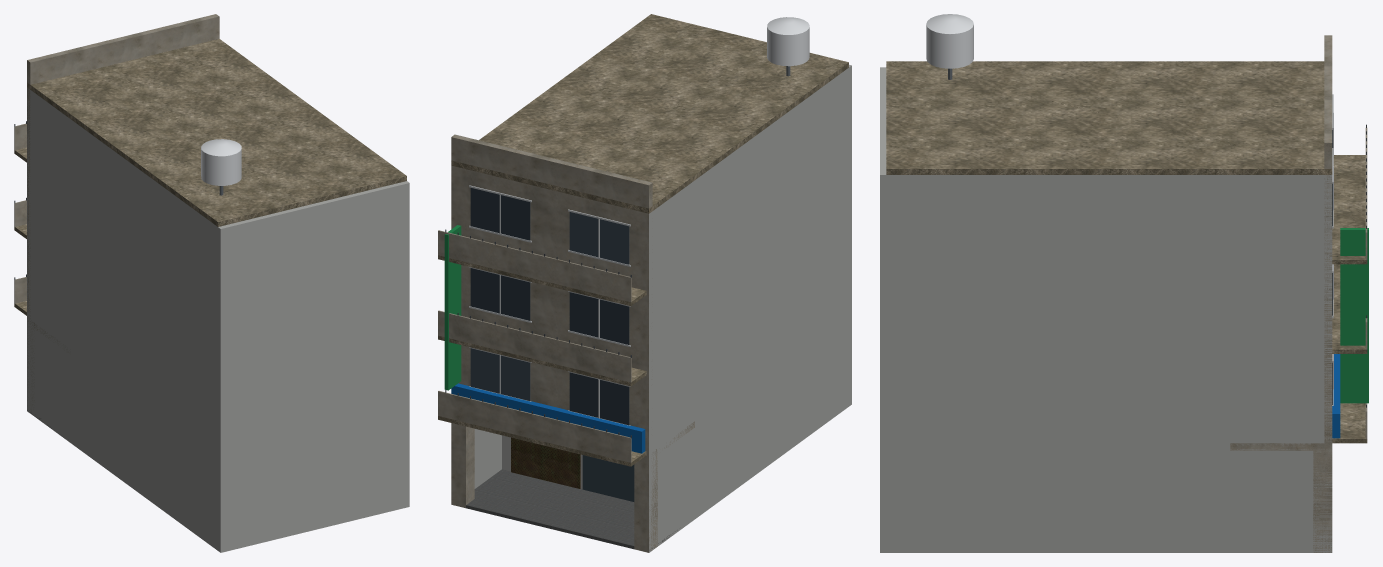
The model's file is street-house-b.glb.
3 views of the same model, side by side, from view 1: azimuth 30°, elevation 25°; view 2: azimuth 150°, elevation 25°; view 3: azimuth 270°, elevation 25° (orthographic). The views are drawn at different scales.
Visible parts, largest first — view 1: StreetHouseB; view 2: StreetHouseB; view 3: StreetHouseB.
Part boxes in pixels (x1,y1,x2,y2): StreetHouseB: (14,14,409,552); StreetHouseB: (438,14,851,552); StreetHouseB: (880,14,1368,552).
Size of the model in its own units: 8 by 15.4 by 15.35.
14 materials, 4 textured.
